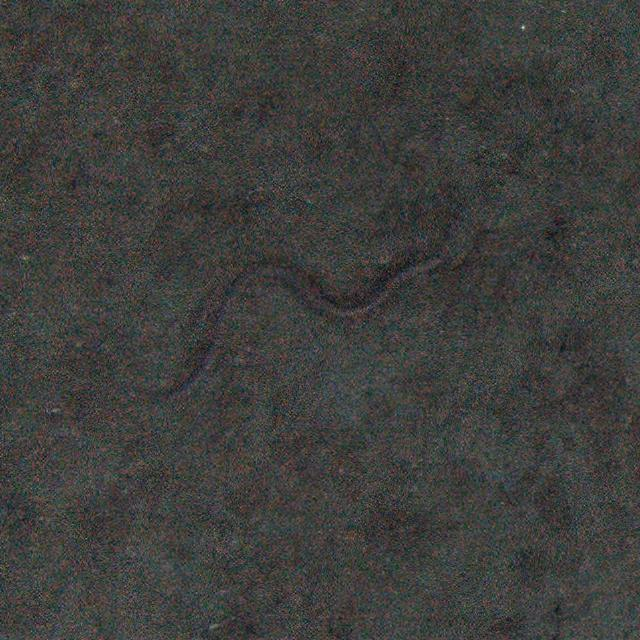eel: (139, 262, 444, 403)
